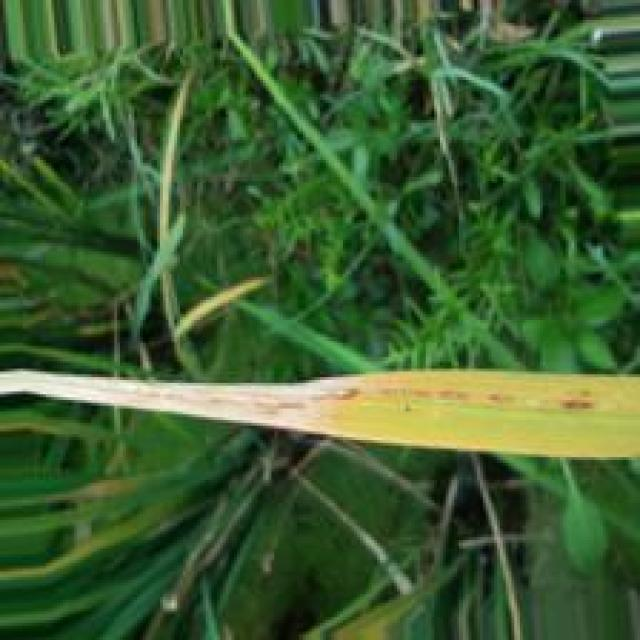Narrow_Brown_Leaf_Spot: (0, 363, 640, 442)
